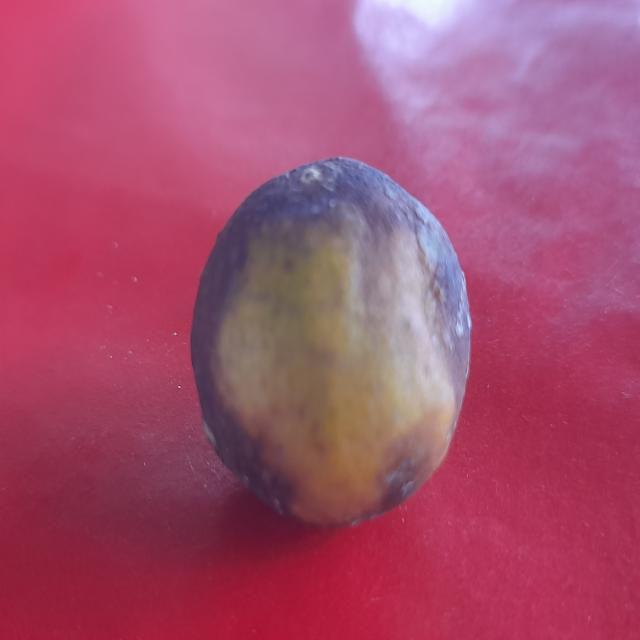black spot: (185, 149, 475, 527)
